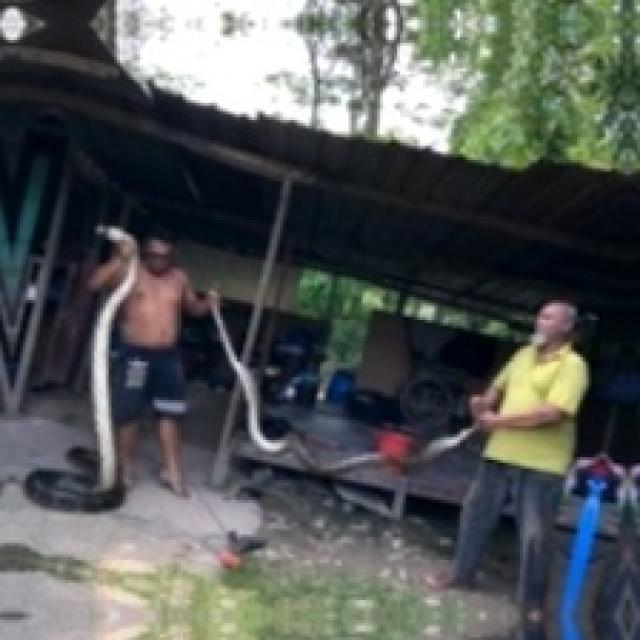reticulated python: (211, 302, 476, 476), (26, 226, 137, 509)
